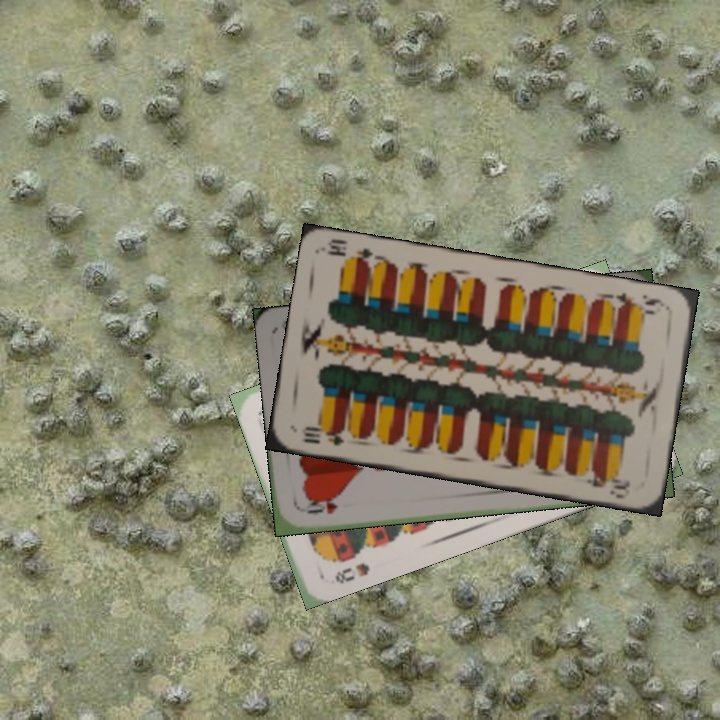E10: (611, 288, 668, 318), (297, 422, 347, 448)
HO: (303, 494, 341, 517)
S8: (330, 558, 372, 587)
